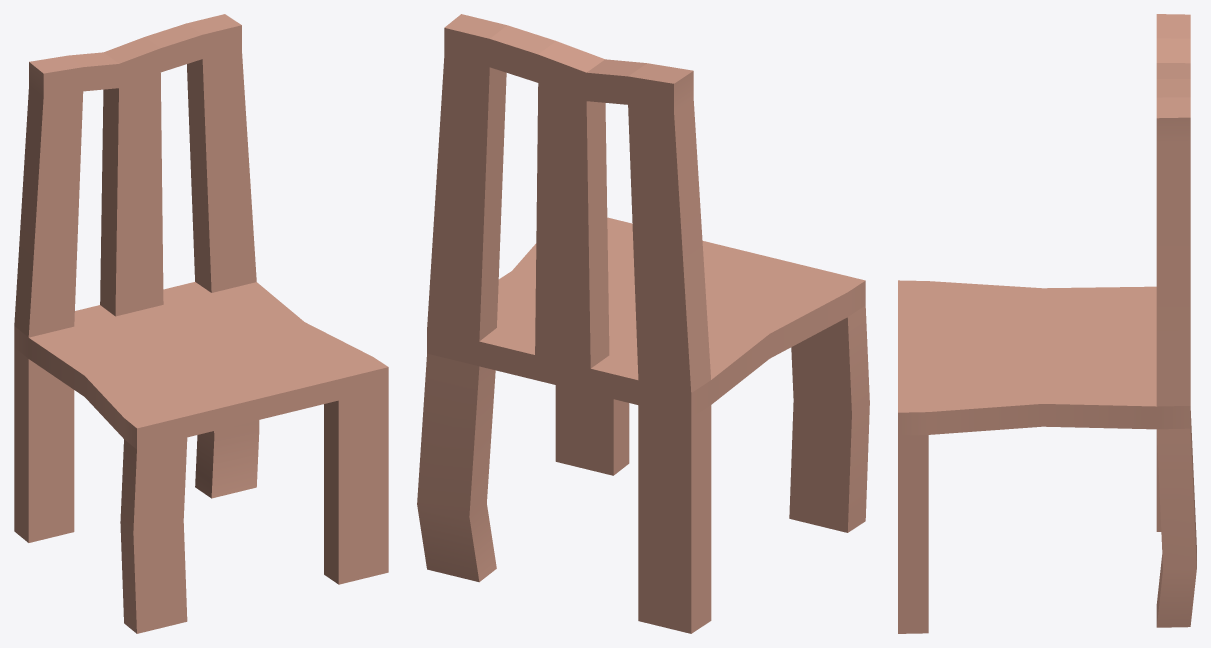
File: Silla_002.fbx
3 renders of one model, left to right at view 1: azimuth 30°, elevation 25°; view 2: azimuth 150°, elevation 25°; view 3: azimuth 270°, elevation 25°, orthographic. The views are drawn at different scales.
Parts seen in each view (by area): view 1: Silla_002; view 2: Silla_002; view 3: Silla_002.
Part boxes in pixels (x1,y1,x2,y2): Silla_002: [14, 14, 388, 633]; Silla_002: [417, 14, 869, 633]; Silla_002: [898, 14, 1196, 633].
Size of the model in its own units: 0.01 by 0.0175 by 0.00942.
